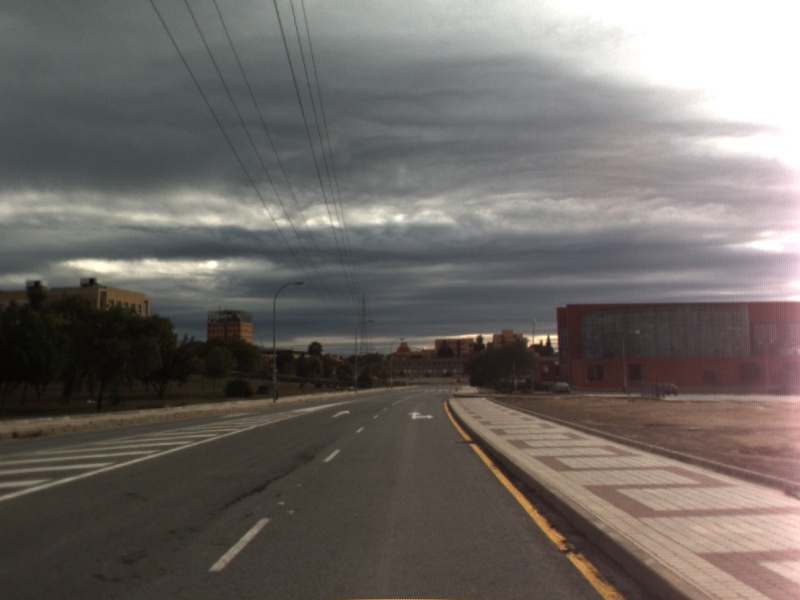STRAIGHT: (330, 407, 352, 420)
STRAIGHT_RIGHT: (407, 409, 437, 422)
